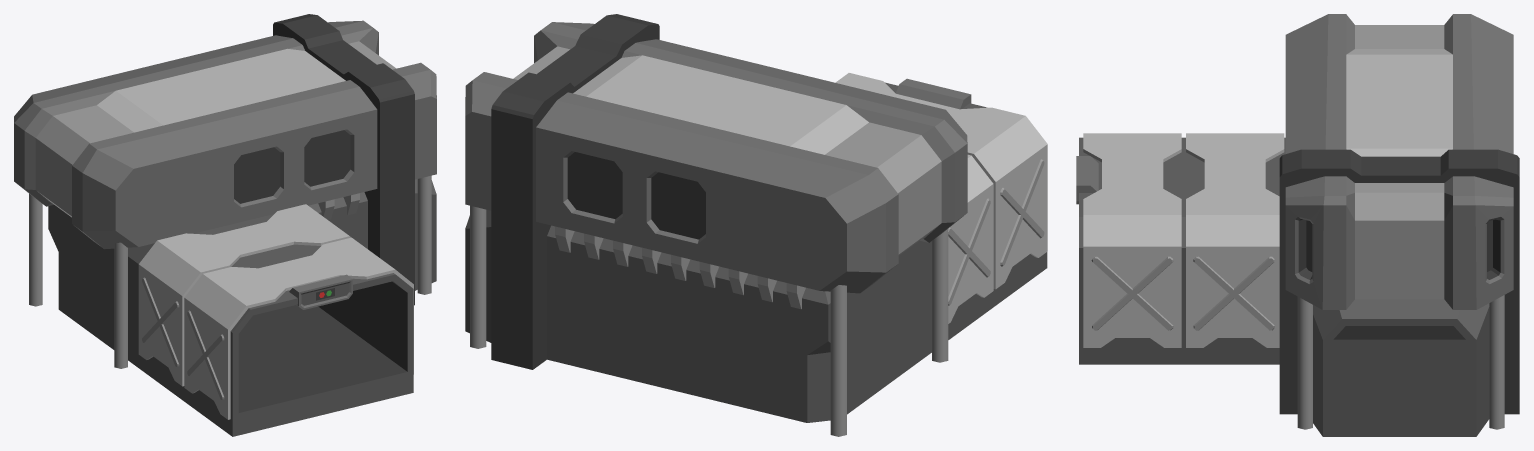
File: hangar_004.fbx
3 views of the same model, side by side, from view 1: azimuth 30°, elevation 25°; view 2: azimuth 150°, elevation 25°; view 3: azimuth 270°, elevation 25° (orthographic). The views are drawn at different scales.
Visible parts, largest first — view 1: hangar_004; view 2: hangar_004; view 3: hangar_004.
Boxes of the visible parts, x1,y1,x2,y2 form: hangar_004: [14, 14, 436, 436]; hangar_004: [465, 14, 1047, 436]; hangar_004: [1076, 14, 1519, 436].
Size of the model in its own units: 1967 by 1898 by 1162.
